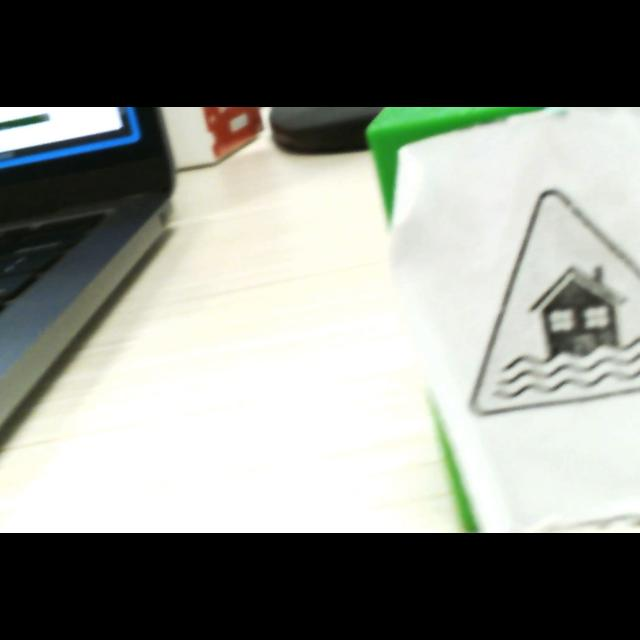Tsunami: (469, 189, 640, 418)
